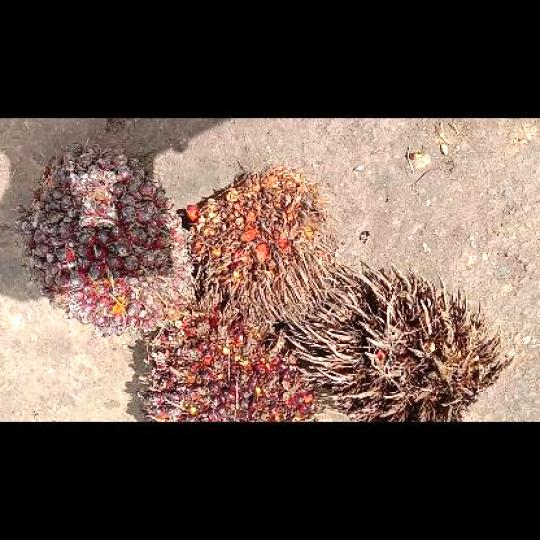kurang masak: (16, 142, 197, 336)
masak: (137, 304, 323, 420)
terlalu masak: (185, 163, 337, 325)
